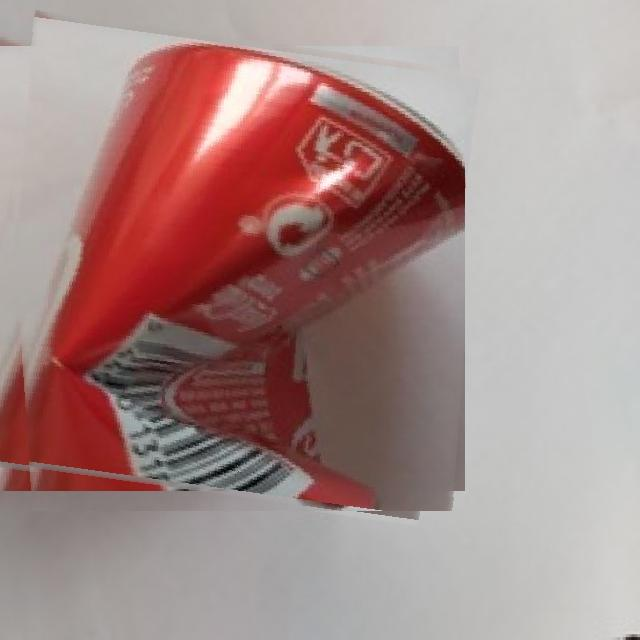recyclable: (0, 24, 465, 511)
